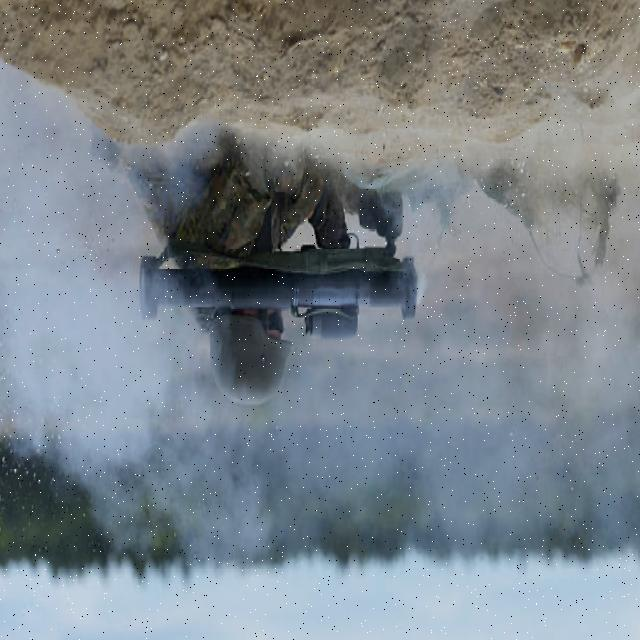bazooka: (133, 247, 433, 329)
